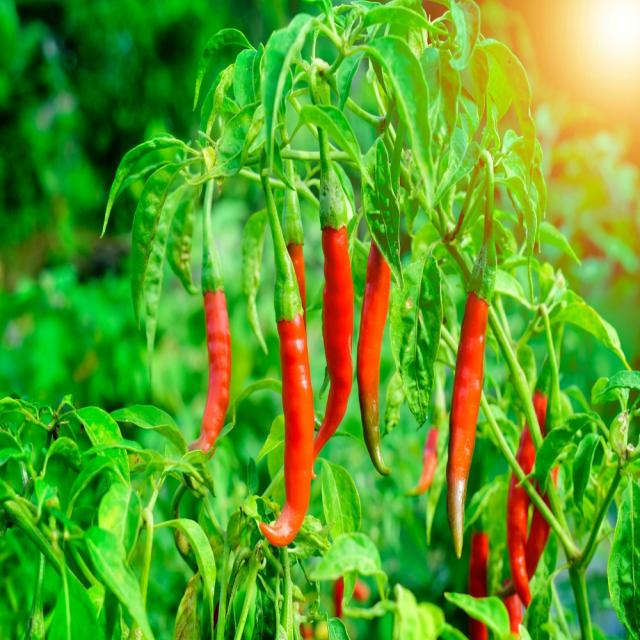Half-Ripe: (447, 292, 488, 556), (358, 240, 391, 475)
Ripe: (260, 313, 314, 546), (314, 225, 354, 458), (506, 391, 548, 607), (189, 290, 231, 453), (502, 505, 551, 595), (288, 242, 306, 327)
